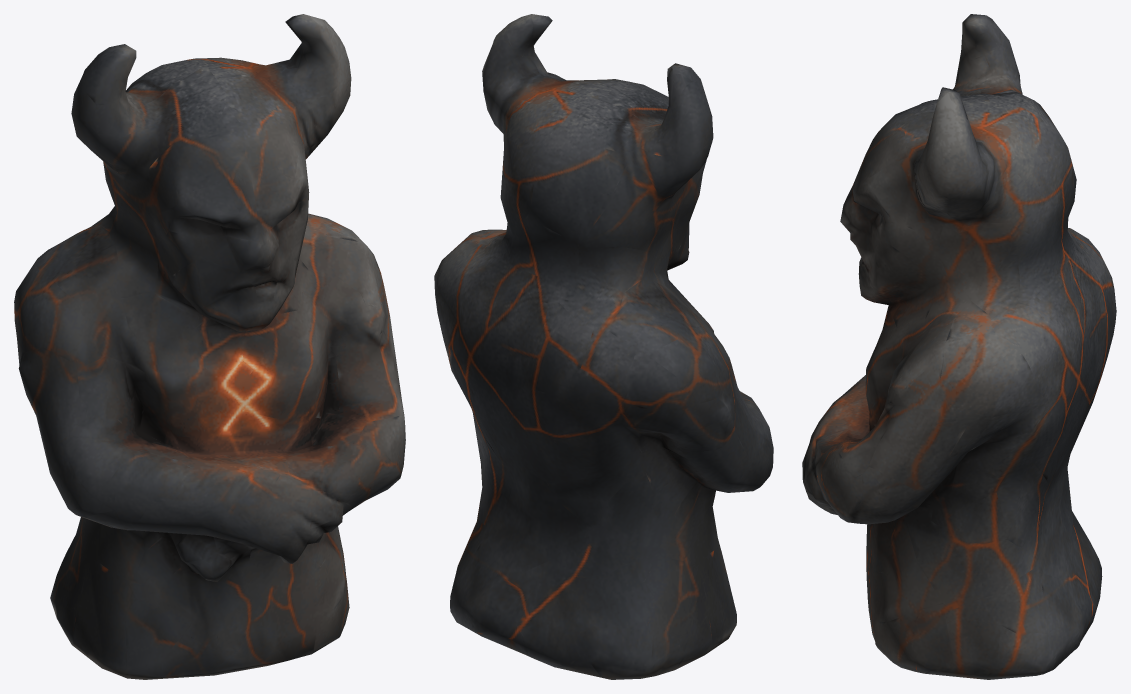
Rendered from ancient_idol.glb.
The picture shows the model from 3 angles, left to right: view 1: azimuth 30°, elevation 25°; view 2: azimuth 150°, elevation 25°; view 3: azimuth 270°, elevation 25°; orthographic projection. The views are drawn at different scales.
Bounding box in the file's own units: 1.12 × 2 × 0.9941.
Materials: 1 (1 with a texture image).
